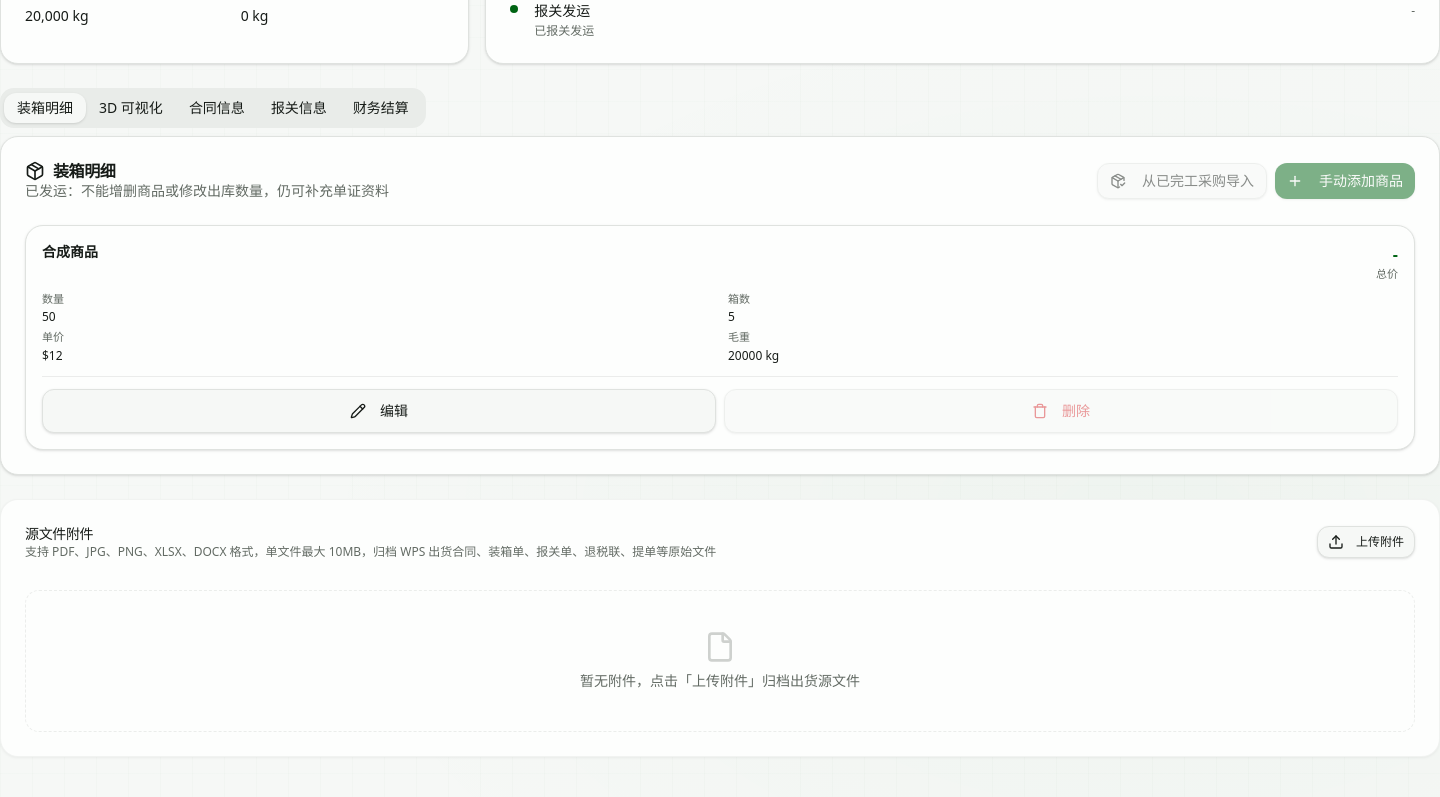
Test: SalesDetailPage 交互逻辑 › 发运后保留资料编辑并锁定增删与数量（手机：true）
(page scrolled)
Check: the button "从已完工采购导入" is disabled, box [1097,163,1267,199]
Check: the button "手动添加商品" is disabled, box [1275,163,1415,199]
What coordinates should you click on to do the following:
click the button with aria-label "编辑 合成商品"
I would click on:
 (379, 410)
Its box is [42,388,716,432].
(page scrolled)
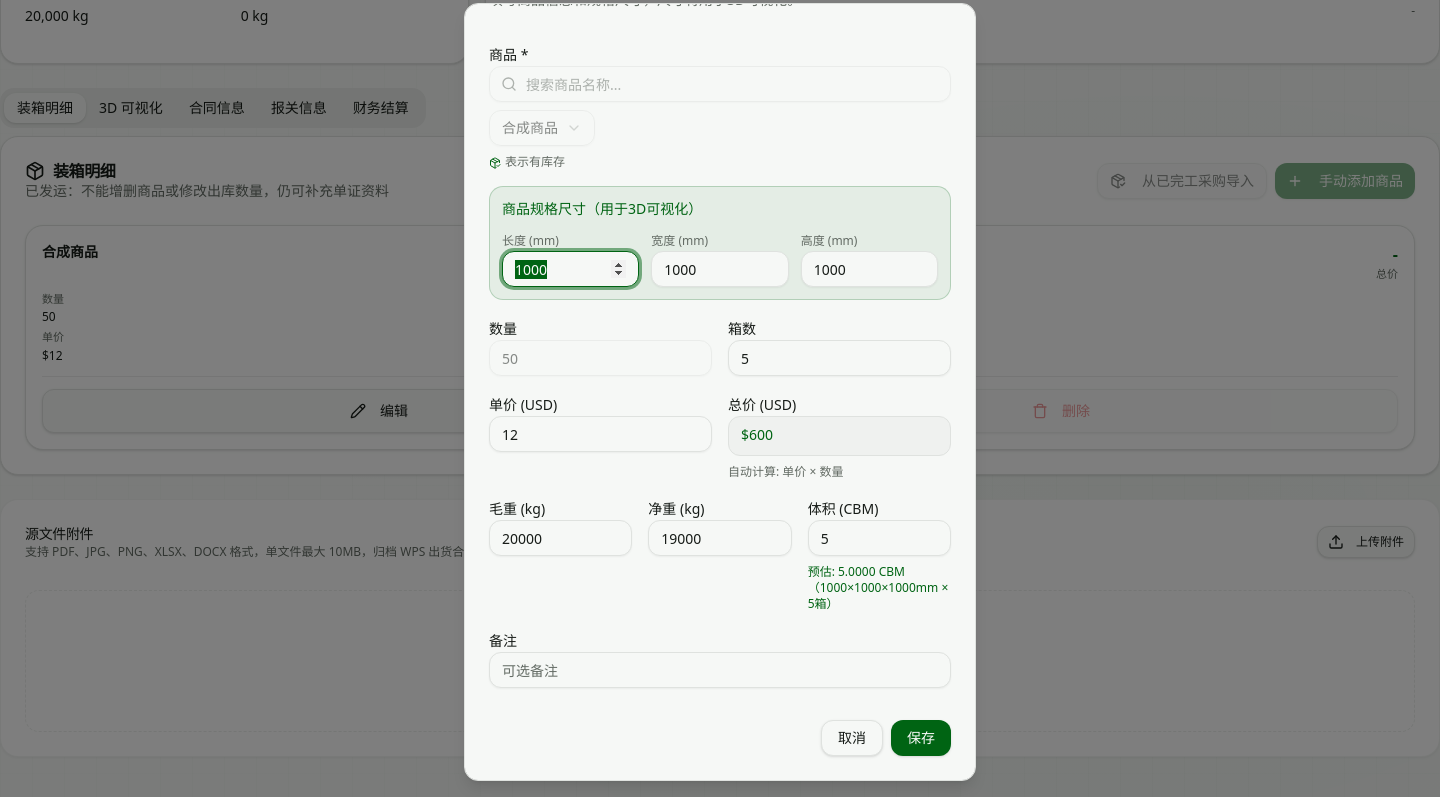
Check: the number field named "数量" is disabled, box [489,340,712,376]
Check: the number field named "单价" is enabled, box [489,416,712,452]
Check: the number field named "长度" is enabled, box [502,251,639,287]
Note: 关闭后不遗留编辑弹层，重新打开仍然保持货物锁定。
What coordinates should you click on to do the following:
click the button "取消"
I would click on:
 (852, 738)
Its box is [821,720,883,756].
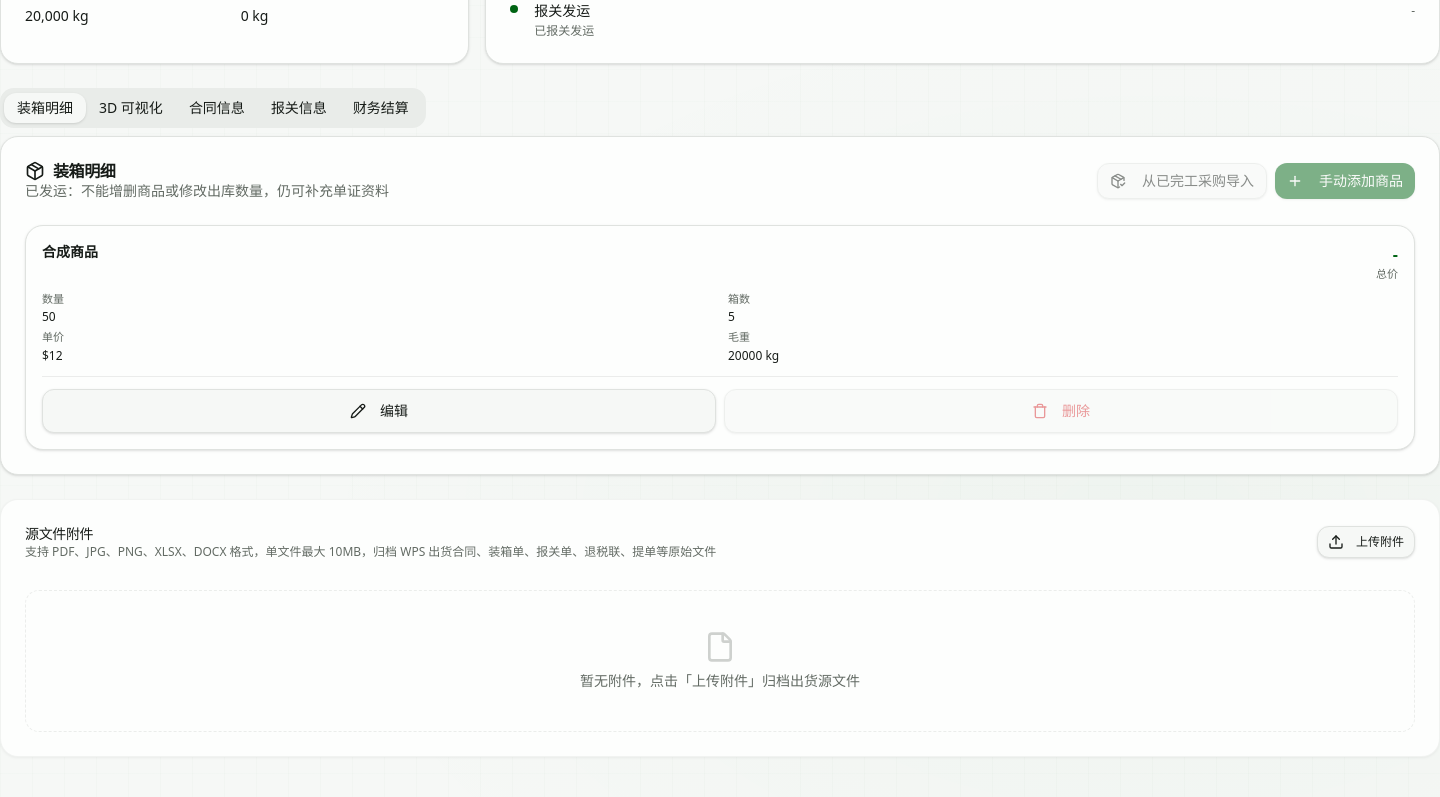
Check: the dialog is gone
What coordinates should you click on to do the following:
click the button with aria-label "编辑 合成商品"
I would click on:
 (379, 410)
Its box is [42,388,716,432].
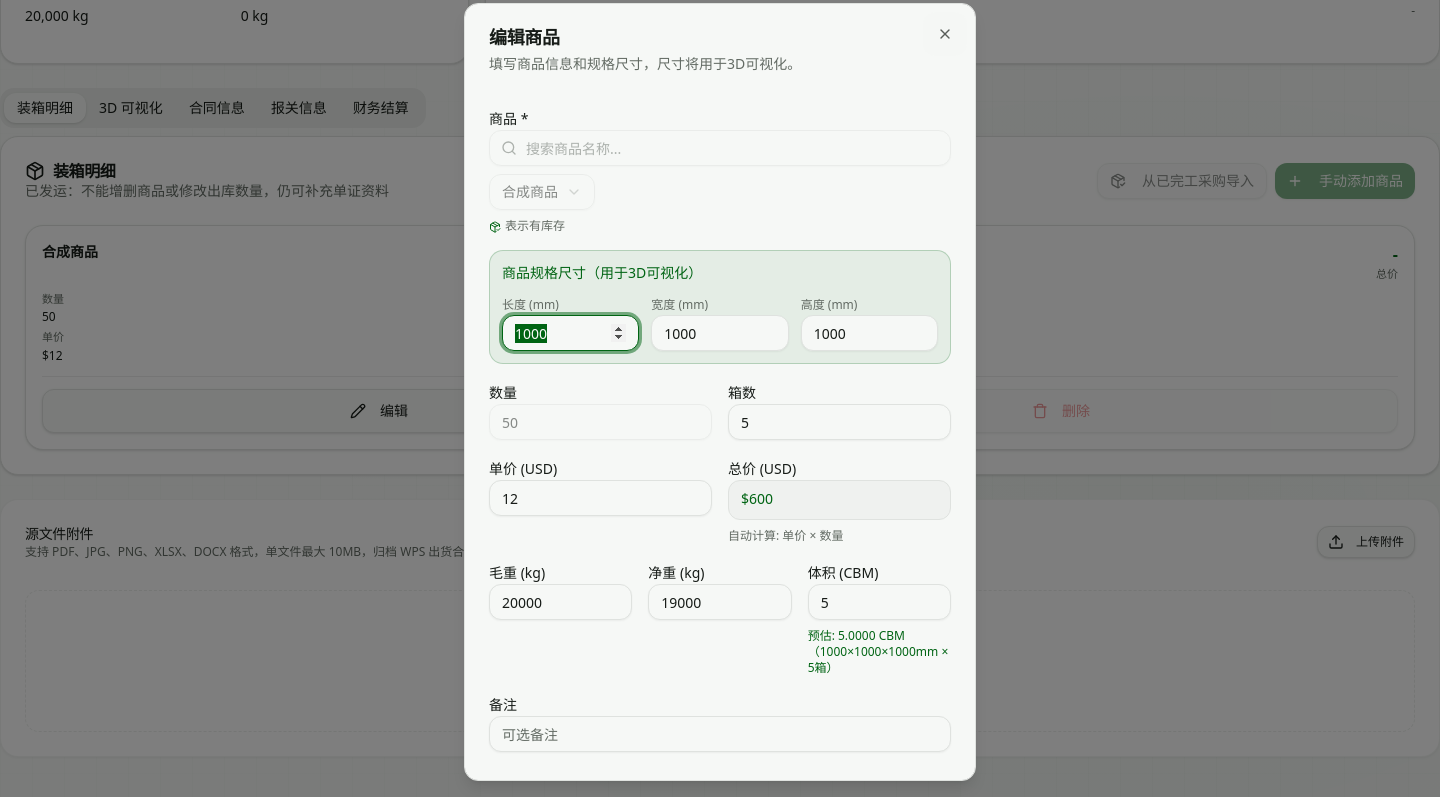
Check: the number field named "数量" is disabled, box [489,404,712,440]
